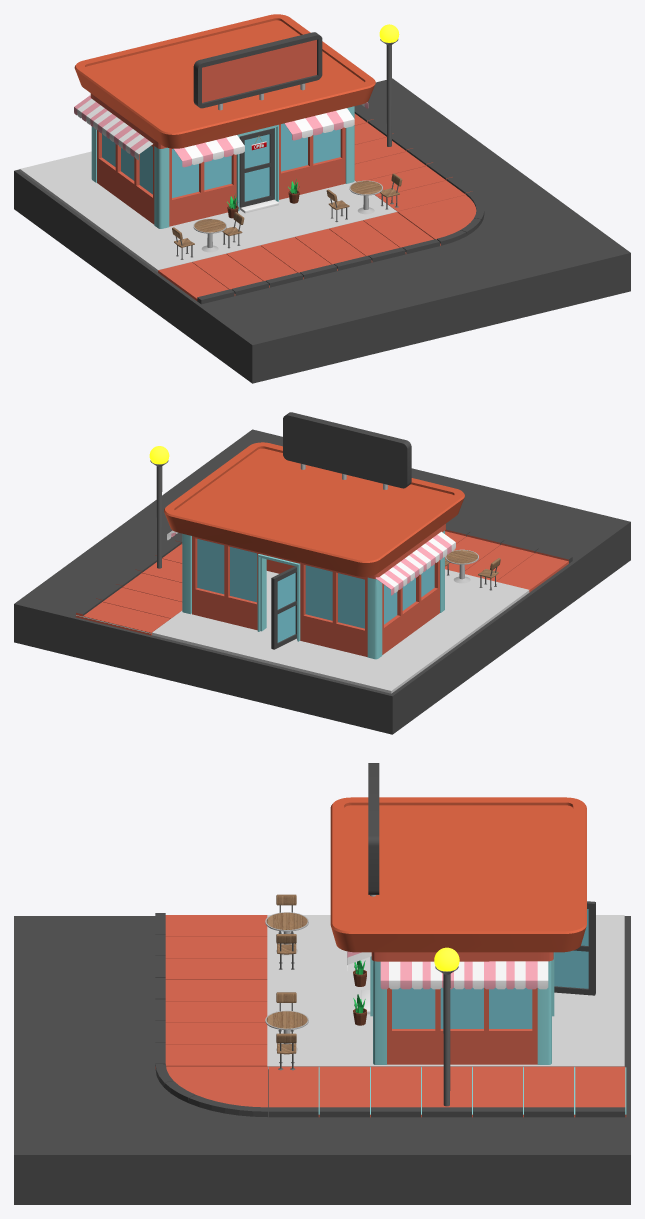
Rendered from shopModularComplete.fbx.
3 renders of one model, top to bottom at view 1: azimuth 30°, elevation 25°; view 2: azimuth 150°, elevation 25°; view 3: azimuth 270°, elevation 25°, orthographic. The views are drawn at different scales.
Parts seen in each view (by area): view 1: Plane.002, roof, Ground, Pavement.001, Plane.005, Sign.004, WallWindow.004, WallWindow.005, Pavement.003, CornerPavement.001, Pavement.002, Door.001 (+11 smaller); view 2: Plane.002, roof, Ground, Plane.005, Sign.004, Pavement.003, WallWindow.001, WallWindow.003, Pavement.001, WallWindow.002, Door.002, Awning.002 (+6 smaller); view 3: Plane.002, roof, Ground, Pavement.001, Pavement.003, Plane.005, Cube.195, Pavement.002, CornerPavement.001, Awning.005, Cube.221, Door.002 (+8 smaller).
Part boxes in pixels (bbox=[...]): Plane.002: bbox=[14, 78, 630, 369]; roof: bbox=[74, 14, 375, 148]; Ground: bbox=[20, 151, 397, 272]; Pavement.001: bbox=[158, 212, 440, 304]; Plane.005: bbox=[14, 195, 630, 383]; Sign.004: bbox=[193, 32, 322, 110]; WallWindow.004: bbox=[169, 148, 236, 226]; WallWindow.005: bbox=[279, 123, 345, 199]; Pavement.003: bbox=[354, 106, 432, 181]; CornerPavement.001: bbox=[397, 191, 484, 245]; Pavement.002: bbox=[368, 162, 472, 212]; Door.001: bbox=[239, 128, 274, 207]; Plane.002: bbox=[14, 429, 630, 720]; roof: bbox=[164, 442, 464, 576]; Ground: bbox=[152, 569, 529, 693]; Plane.005: bbox=[14, 546, 630, 734]; Sign.004: bbox=[283, 412, 411, 489]; Pavement.003: bbox=[75, 541, 182, 635]; WallWindow.001: bbox=[300, 562, 367, 656]; WallWindow.003: bbox=[192, 536, 258, 630]; Pavement.001: bbox=[445, 526, 572, 592]; WallWindow.002: bbox=[382, 574, 421, 654]; Door.002: bbox=[271, 566, 296, 649]; Awning.002: bbox=[375, 531, 455, 595]; Plane.002: bbox=[14, 916, 630, 1186]; roof: bbox=[330, 797, 586, 952]; Ground: bbox=[267, 915, 624, 1069]; Pavement.001: bbox=[155, 913, 267, 1068]; Pavement.003: bbox=[371, 1066, 626, 1117]; Plane.005: bbox=[14, 1186, 630, 1204]; Cube.195: bbox=[387, 987, 488, 1064]; Pavement.002: bbox=[268, 1066, 370, 1117]; CornerPavement.001: bbox=[155, 1064, 267, 1116]; Awning.005: bbox=[380, 961, 548, 989]; Cube.221: bbox=[489, 987, 537, 1064]; Door.002: bbox=[554, 901, 595, 995].
Bounding box in the file's own units: 1107 × 556 × 1208.
17 materials, 2 textured.
